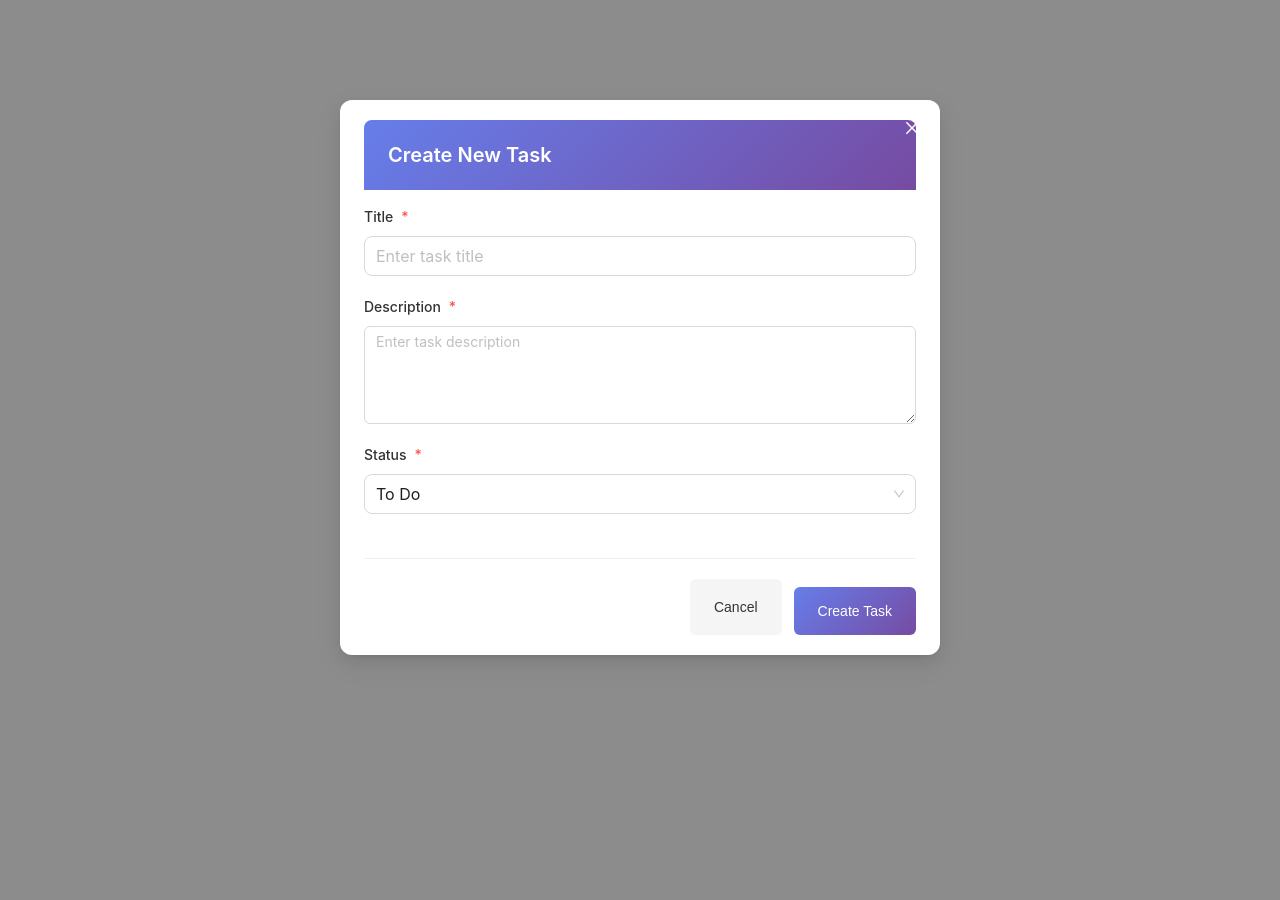
TaskModal › should show validation errors for empty fields
Click the button "Create Task" at (855, 611), box [794,587,916,635]
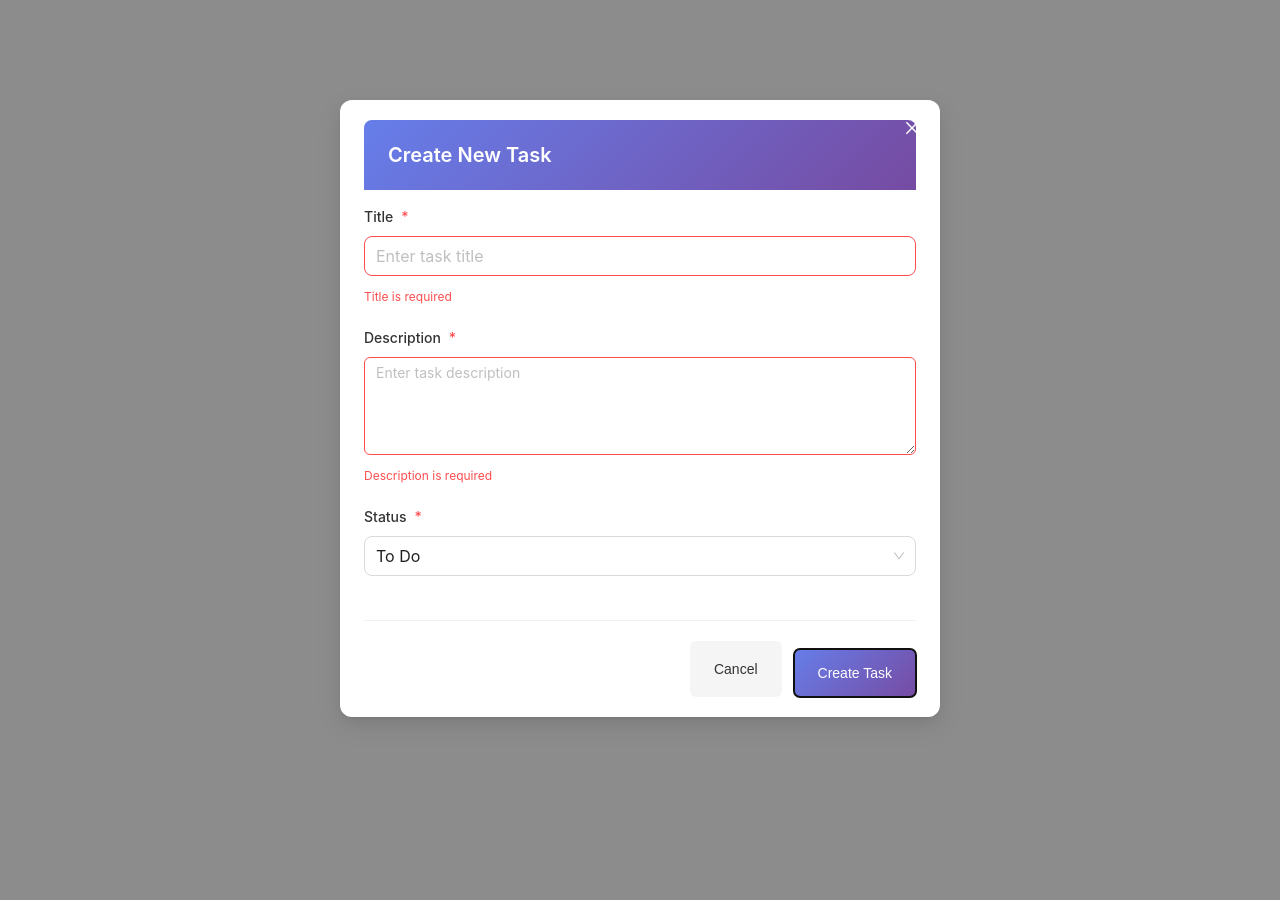
Now the text "Title is required" is shown, box [364,289,452,304]
Now the text "Description is required" is shown, box [364,468,492,483]
